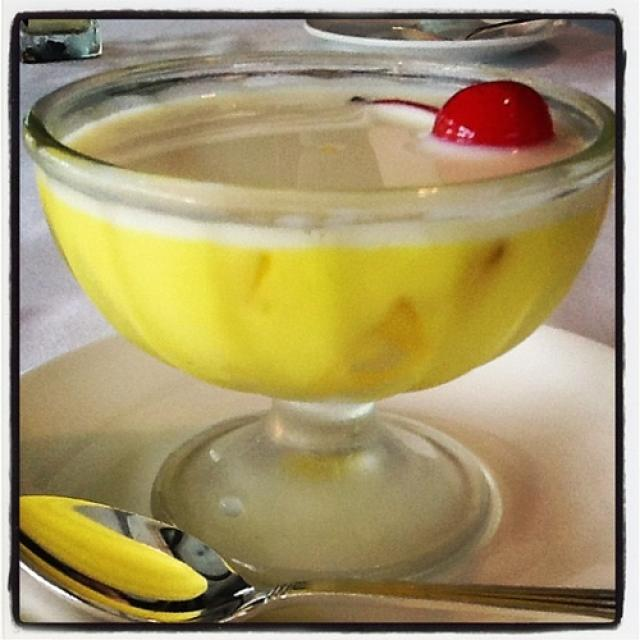蛋糕甜品: (29, 26, 594, 602)
